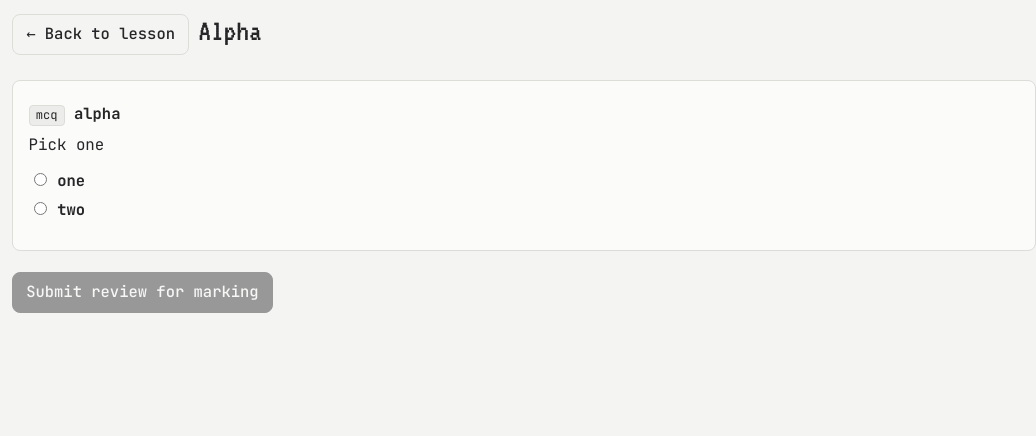
Scenario: ReviewPage › shows feedback on a retry verdict, then passes on resubmit
Step 1. Click the radio button labelled "one" → (40, 180), box [34, 173, 46, 186]
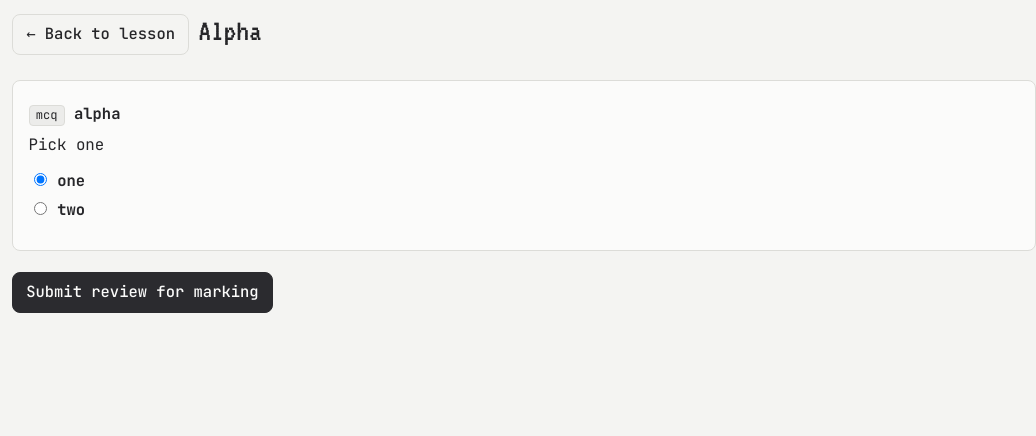
Step 2. Click the button "Submit review for marking" → (142, 292), box [12, 272, 273, 312]
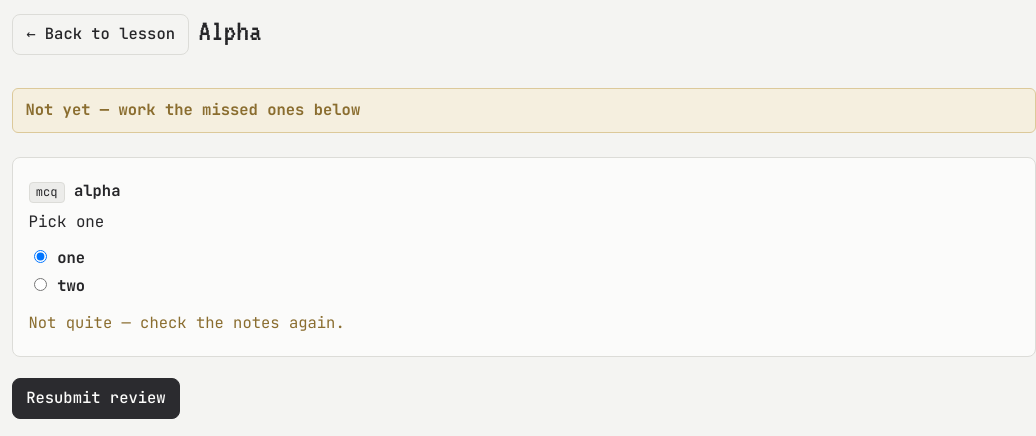
Check: the text "Not yet — work the missed ones below" is shown, box [25, 99, 360, 120]
Check: the text "Not quite — check the notes again." is shown, box [28, 312, 345, 333]
Step 3. Click the radio button labelled "two" → (40, 285), box [34, 278, 46, 291]
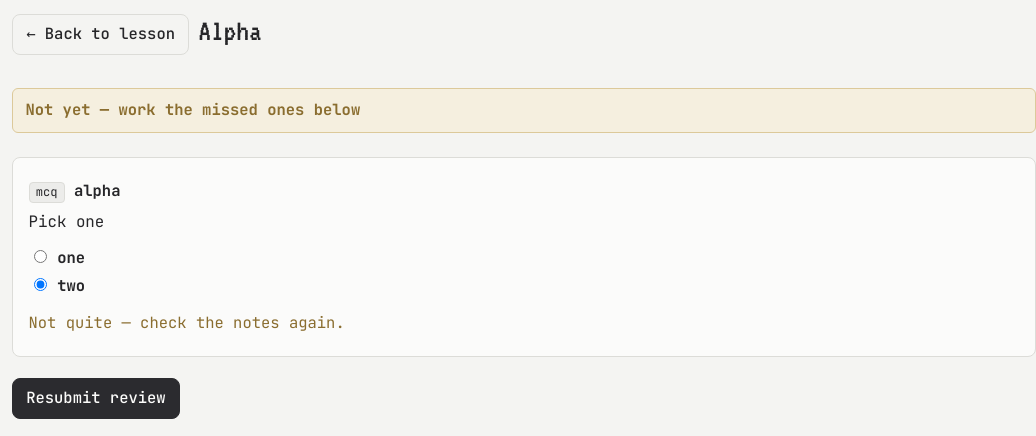
Step 4. Click the button "Resubmit review" → (96, 399), box [12, 378, 180, 419]
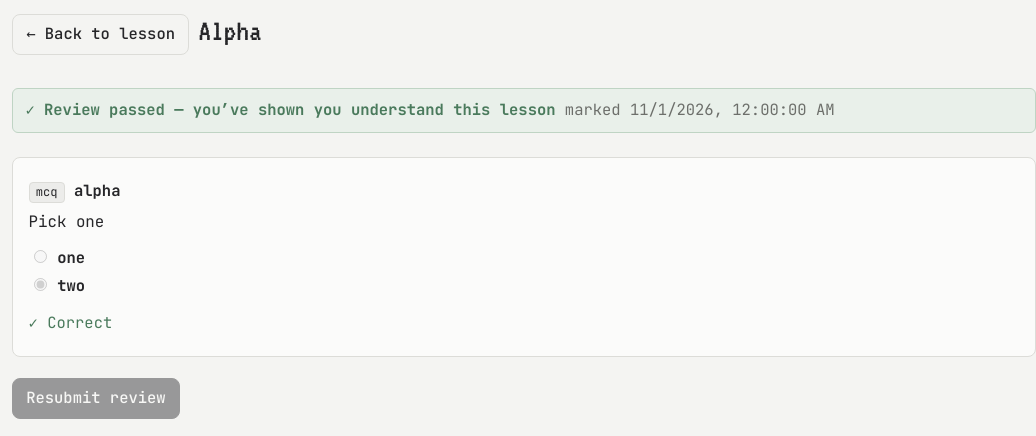
Check: the text "✓ Review passed — you’ve shown you understand this lesson" is shown, box [25, 99, 556, 120]
Check: the radio button labelled "one" is disabled, box [34, 250, 46, 263]
Check: the button "Resubmit review" is disabled, box [12, 378, 180, 419]
